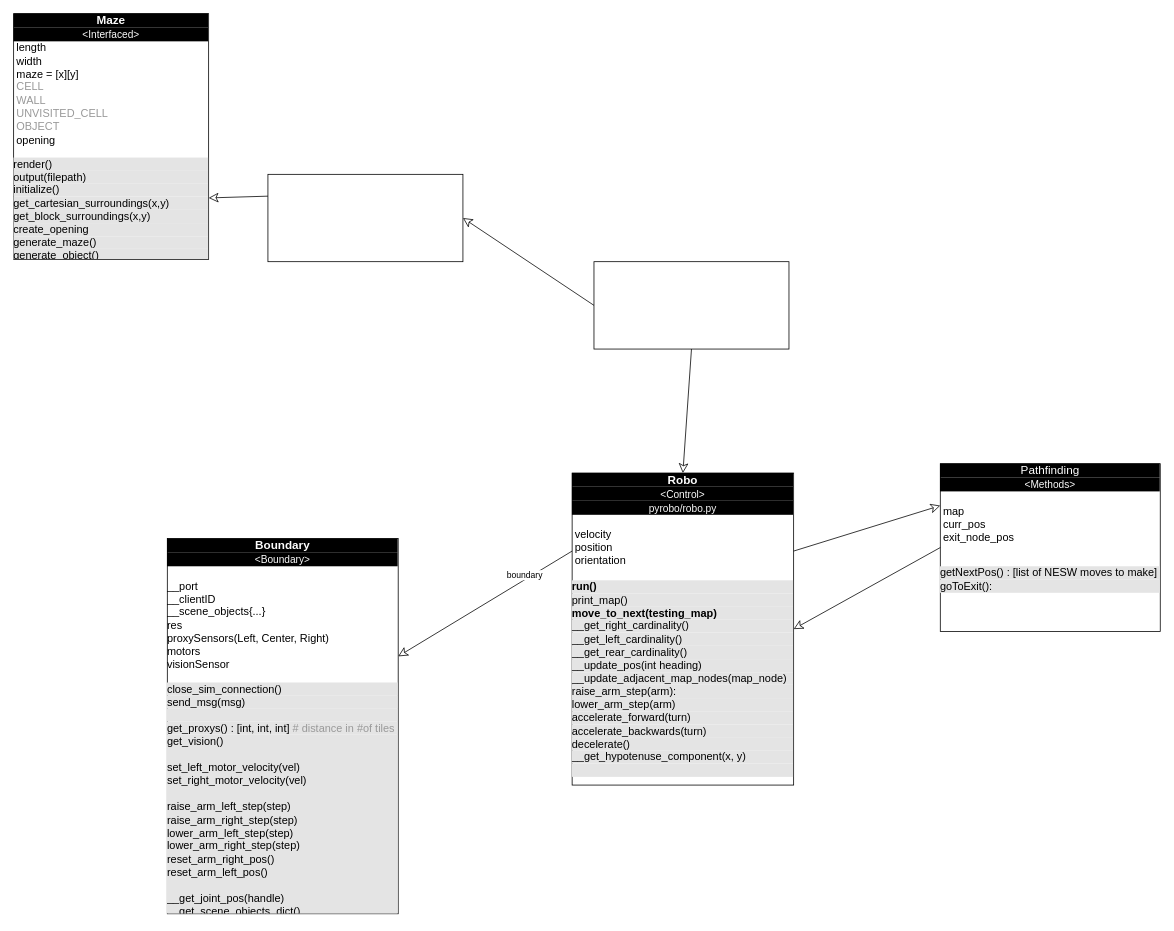
Some shapes in this 1174 by 931 pixel diagram are drawn without their labels. The shapes that lost their labels are listed below. From the top down, each one's centre as x and y in pixels, then its label:
At (365,218): "MazeGen <> + attribute(type): CoppeliaSim".
At (691,305): "main.py <> + attribute(type):".
